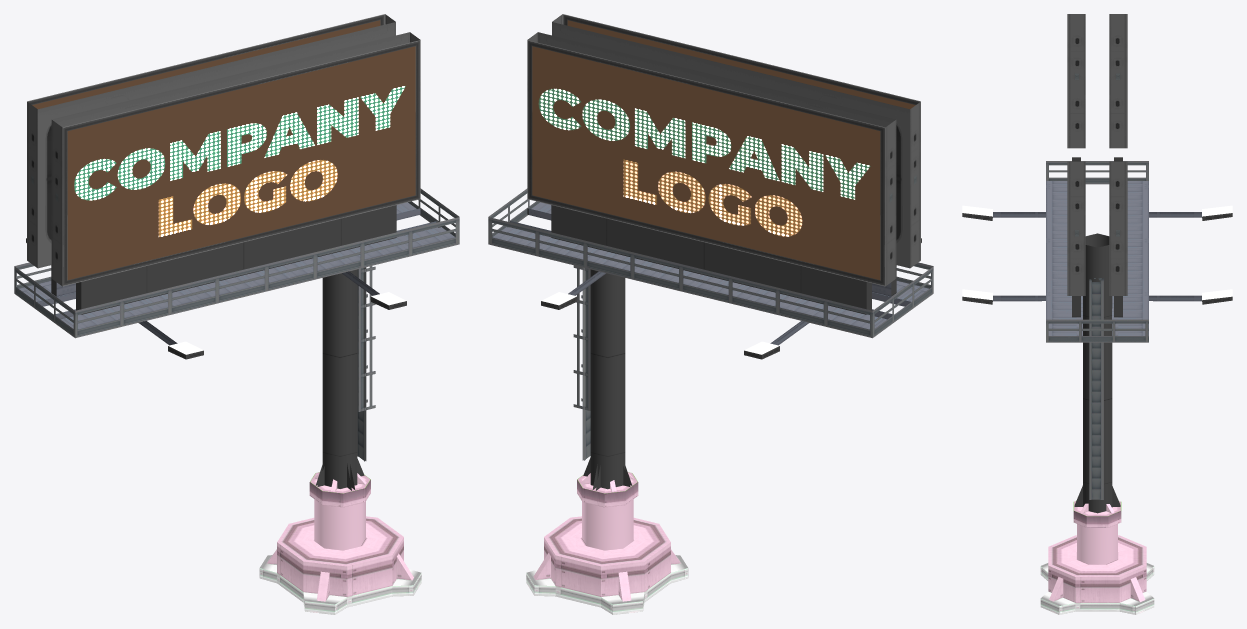
The model's file is pro_billboard_double.fbx.
3 views of the same model, side by side, from view 1: azimuth 30°, elevation 25°; view 2: azimuth 150°, elevation 25°; view 3: azimuth 270°, elevation 25° (orthographic). The views are drawn at different scales.
Parts seen in each view (by area): view 1: pro_billboard_double, support_ground, support_pylon, support_road; view 2: pro_billboard_double, support_ground, support_pylon, support_road; view 3: pro_billboard_double, support_ground, support_pylon, support_road.
Boxes of the visible parts, x1,y1,x2,y2 form: pro_billboard_double: (14,14,459,490); support_ground: (259,516,421,614); support_pylon: (314,499,365,550); support_road: (309,472,370,507); pro_billboard_double: (488,14,933,490); support_ground: (526,516,688,614); support_pylon: (582,499,633,550); support_road: (577,472,638,507); pro_billboard_double: (962,14,1232,513); support_ground: (1040,535,1154,614); support_pylon: (1077,524,1117,564); support_road: (1073,501,1121,527).
Bounding box in the file's own units: 1631 × 2183 × 1176.
